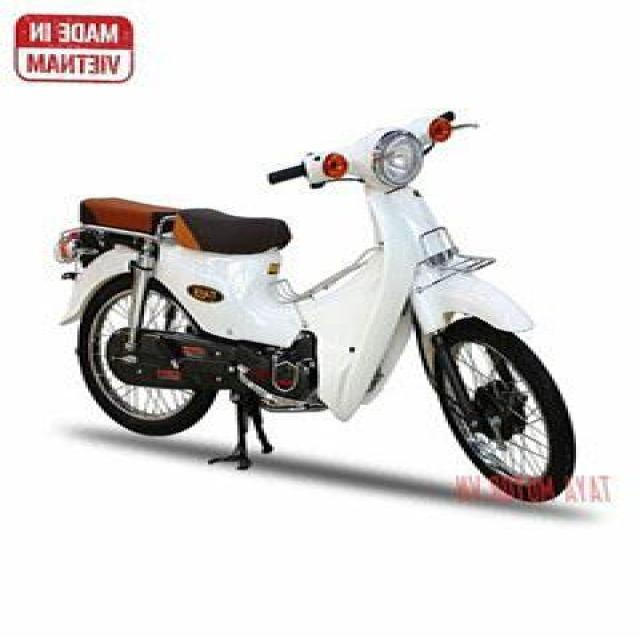motorcycle: (35, 73, 605, 522)
